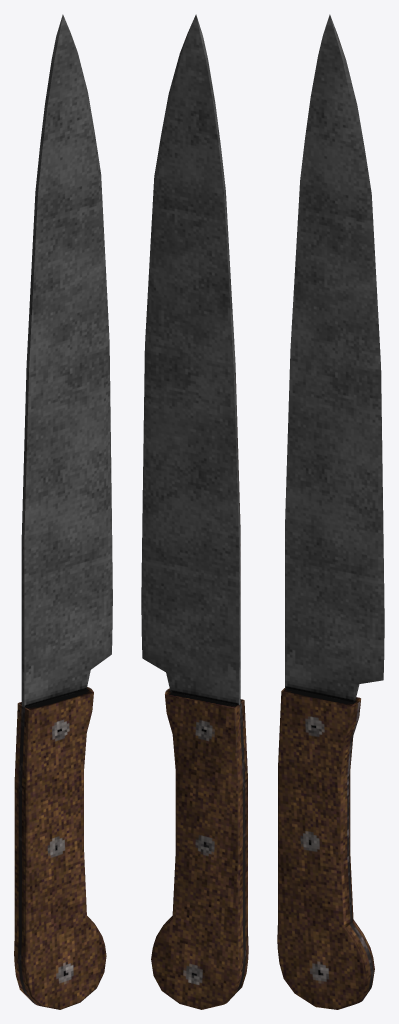
Rendered from knife_001.glb.
3 renders of one model, left to right at view 1: azimuth 30°, elevation 25°; view 2: azimuth 150°, elevation 25°; view 3: azimuth 330°, elevation 25°, orthographic.
Parts seen in each view (by area): view 1: Cube.001; view 2: Cube.001; view 3: Cube.001.
Boxes of the visible parts, <box> form: Cube.001: <box>14,14,112,1009</box>; Cube.001: <box>141,14,248,1009</box>; Cube.001: <box>277,14,384,1009</box>.
Size of the model in its own units: 0.104 by 0.9952 by 0.0269.
1 material, 1 textured.
